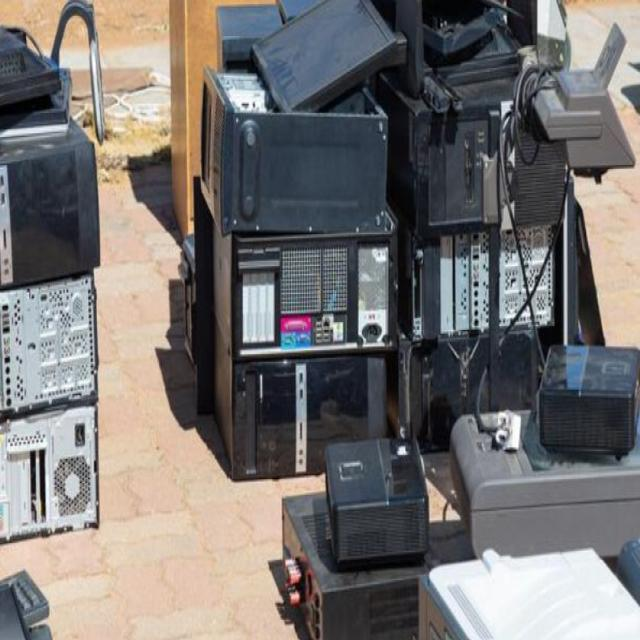electronic: (189, 34, 407, 256), (190, 171, 403, 359), (206, 311, 405, 489), (400, 70, 588, 240), (267, 477, 445, 640), (403, 188, 578, 332), (397, 309, 587, 440), (397, 0, 582, 106), (0, 403, 116, 565), (312, 426, 442, 568), (1, 110, 104, 284), (0, 281, 111, 429), (538, 321, 640, 465)
